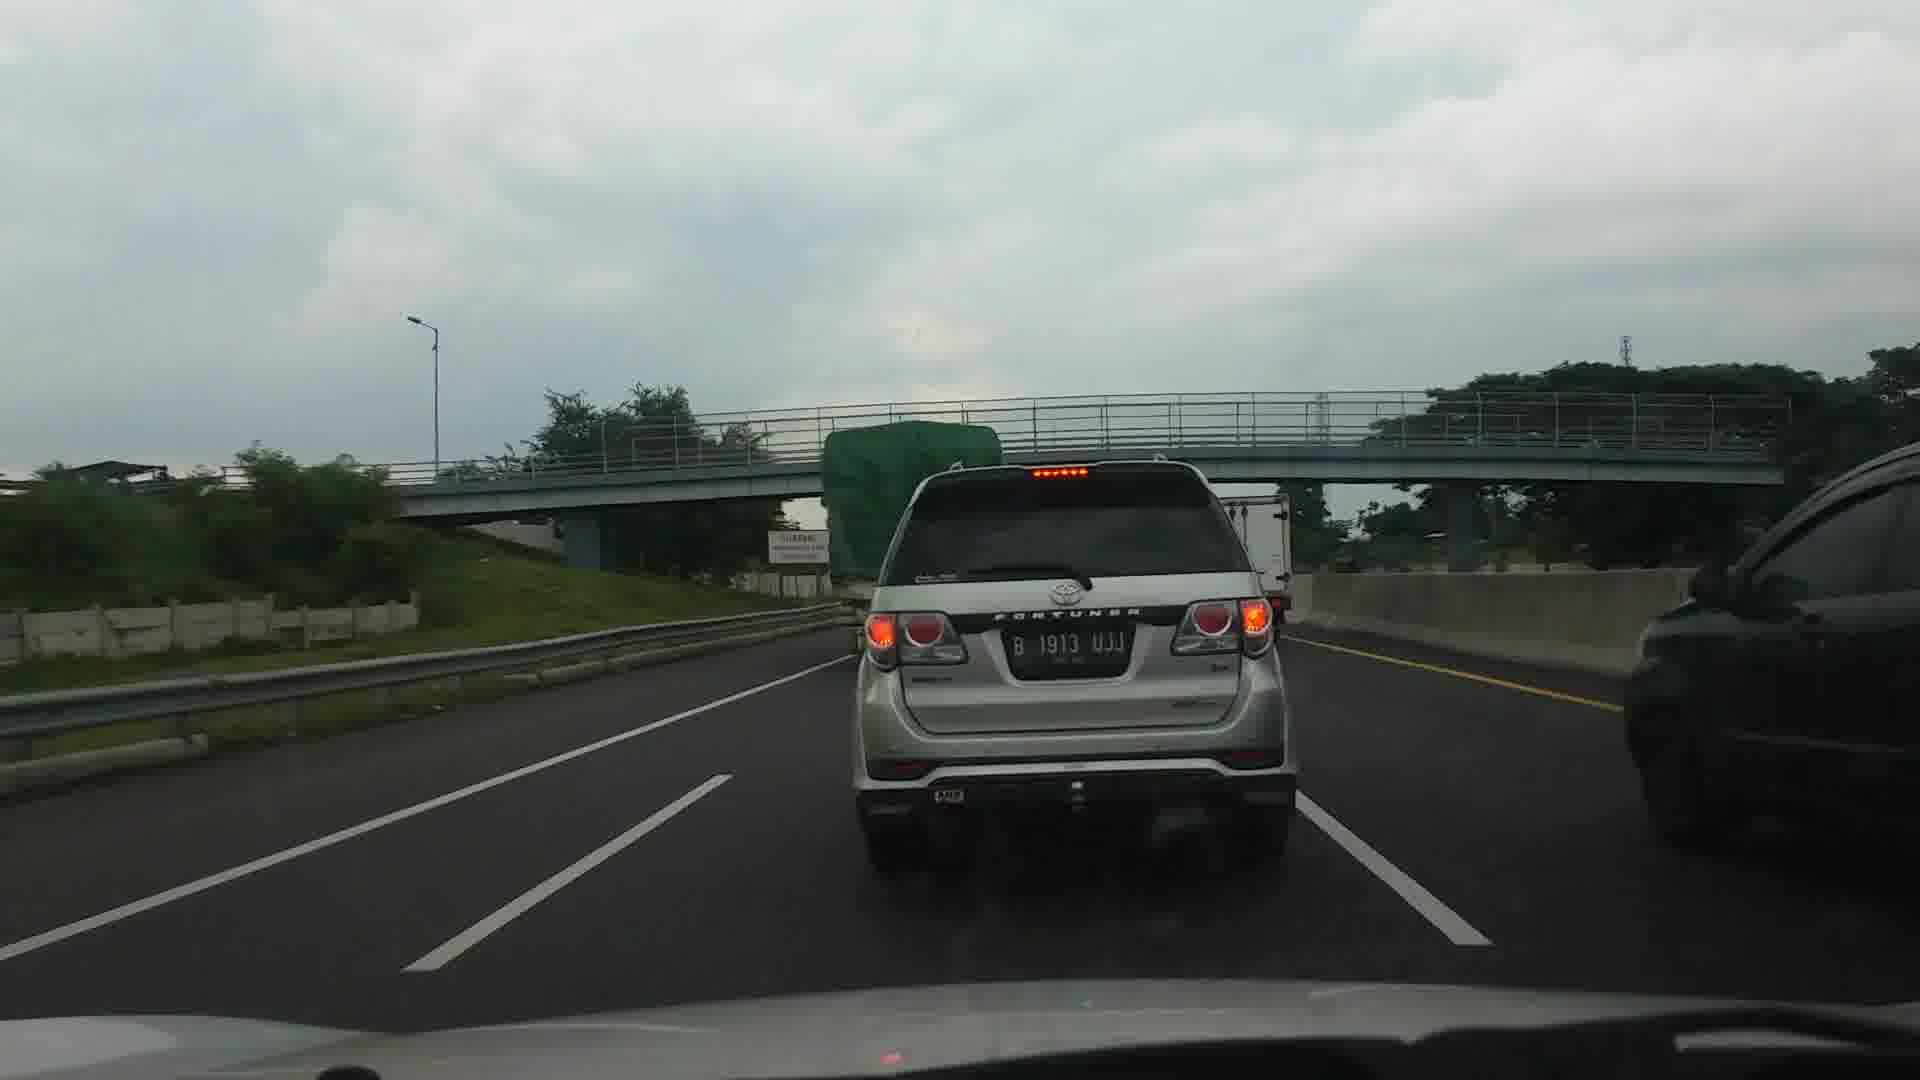plate_positive: (1007, 629, 1129, 665)
